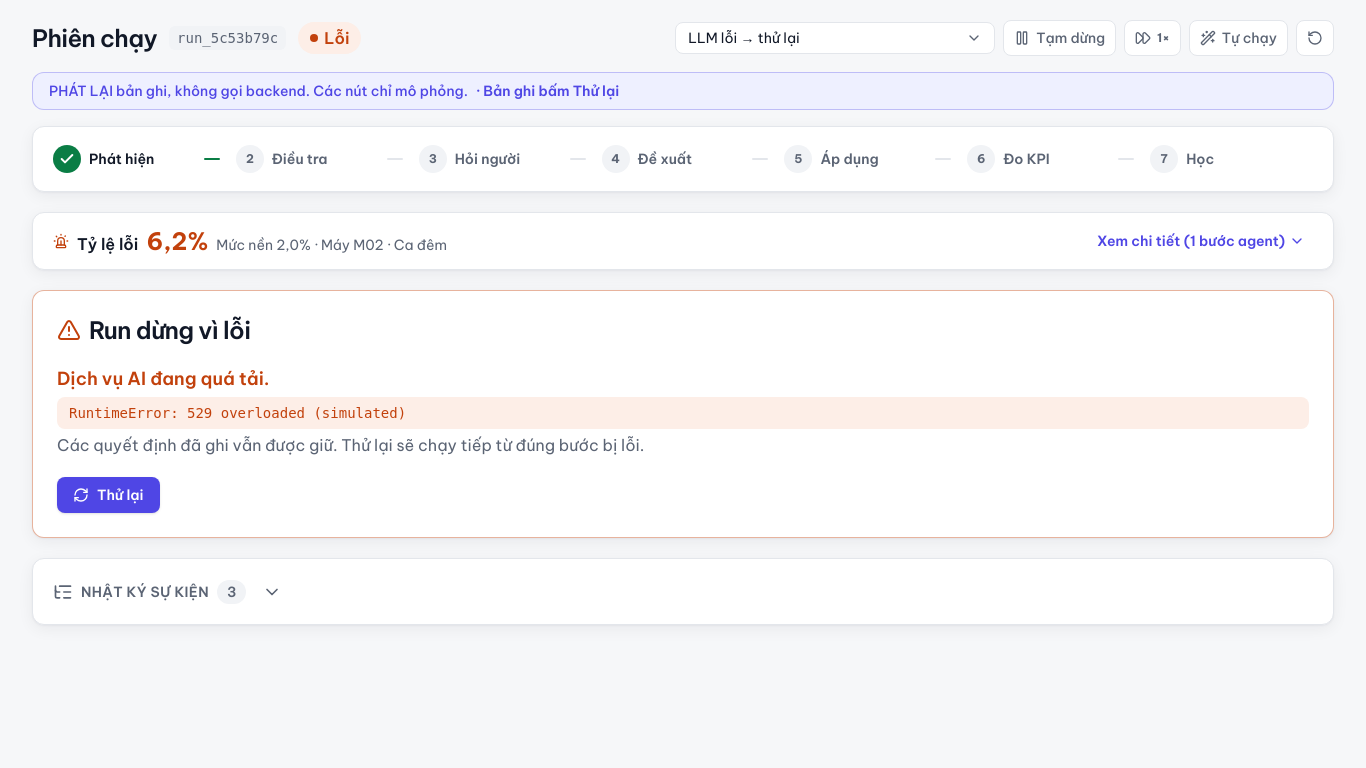
replay (FR-07) › error recording: error screen, Retry continues, the past error stays visible
The image size is (1366, 768).
Expected: the text with test id "run-error-raw" shows "529 overloaded", x1=69 y1=405 x2=406 y2=421
What coordinates should you click on to do the following:
click the button with test id "retry-button"
I would click on:
 (108, 495)
Its box is x1=57 y1=477 x2=160 y2=513.
Wait 2000 ms
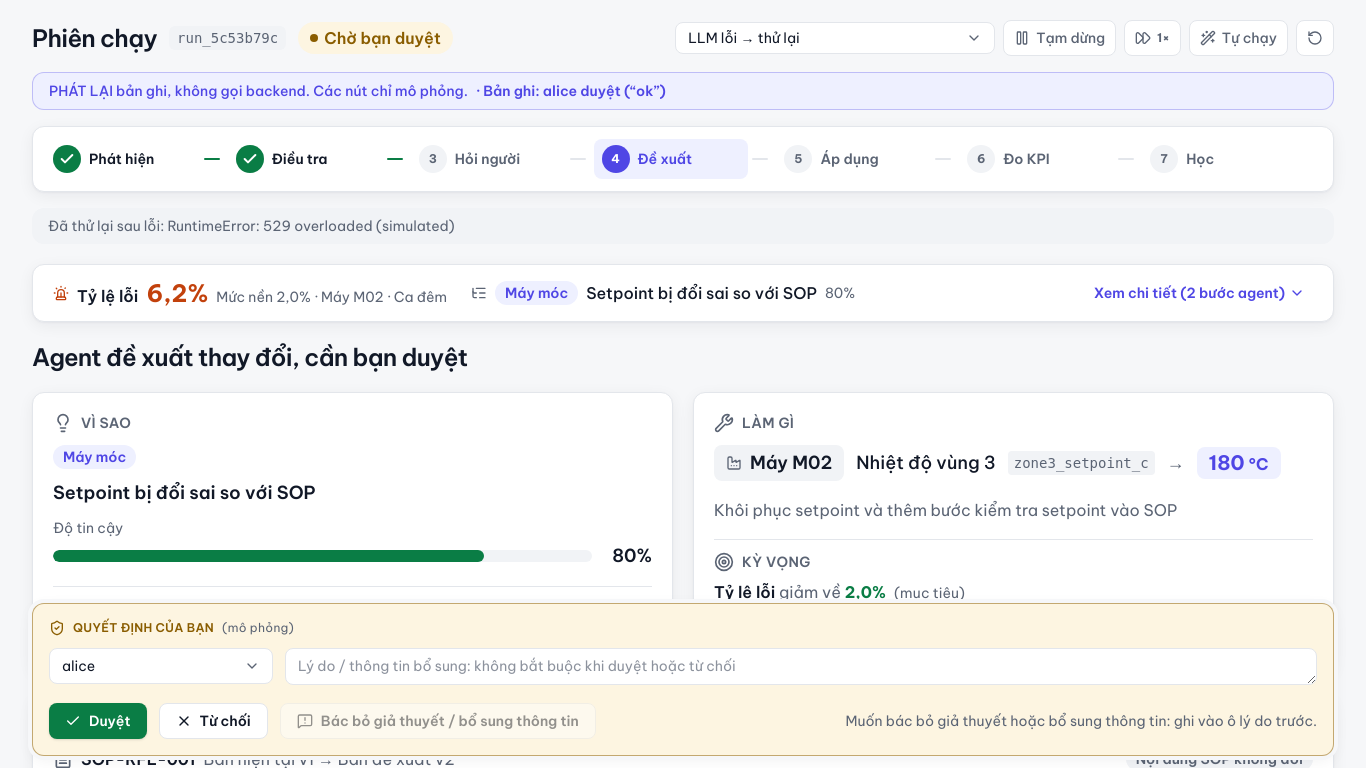
Result: the text "Đã thử lại sau lỗi: RuntimeError: 529 overloaded (simulated)" is shown at x1=32 y1=208 x2=1334 y2=244
